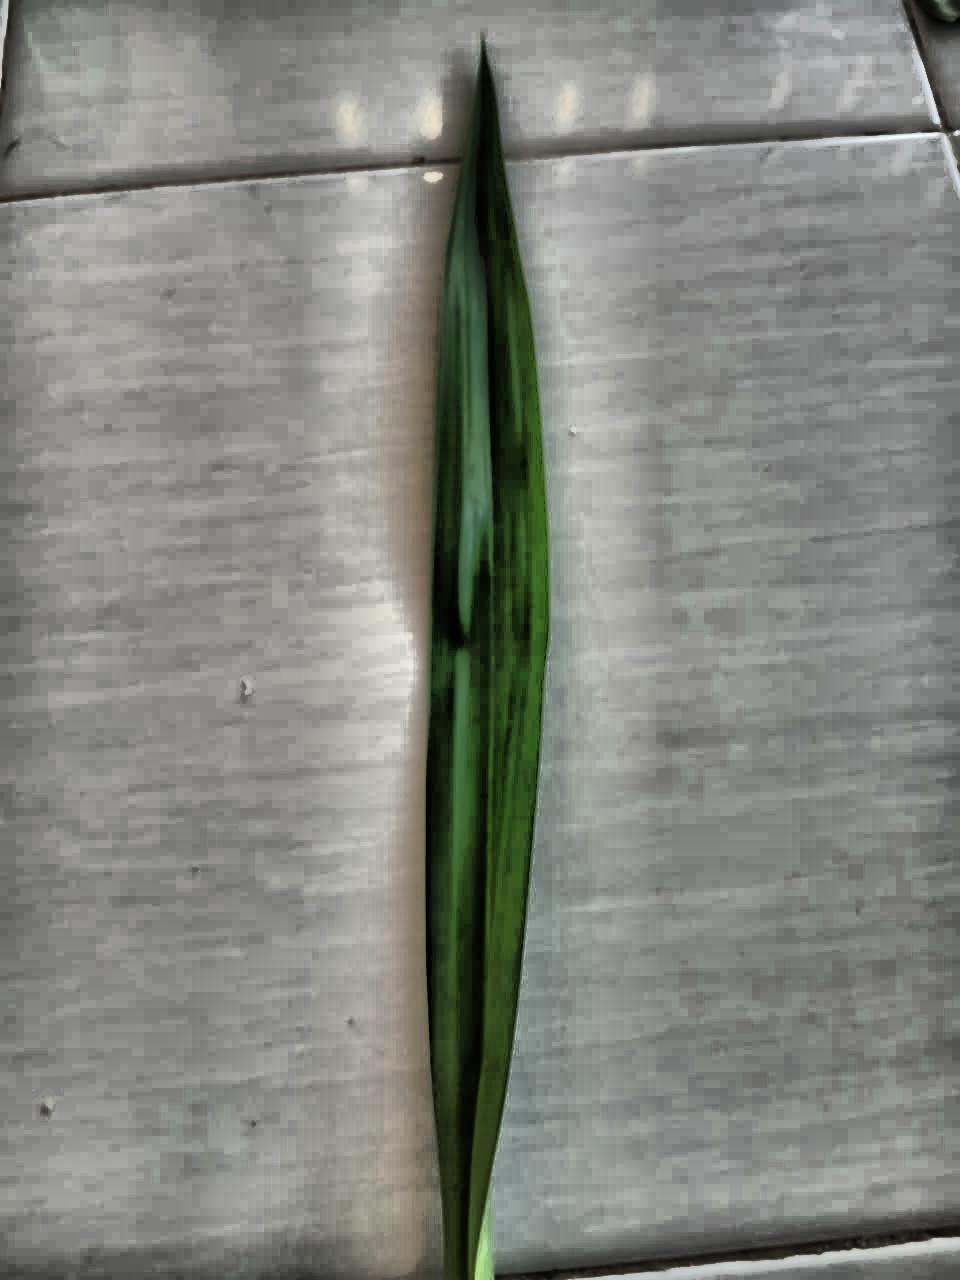daun pandan: (425, 46, 549, 1279)
